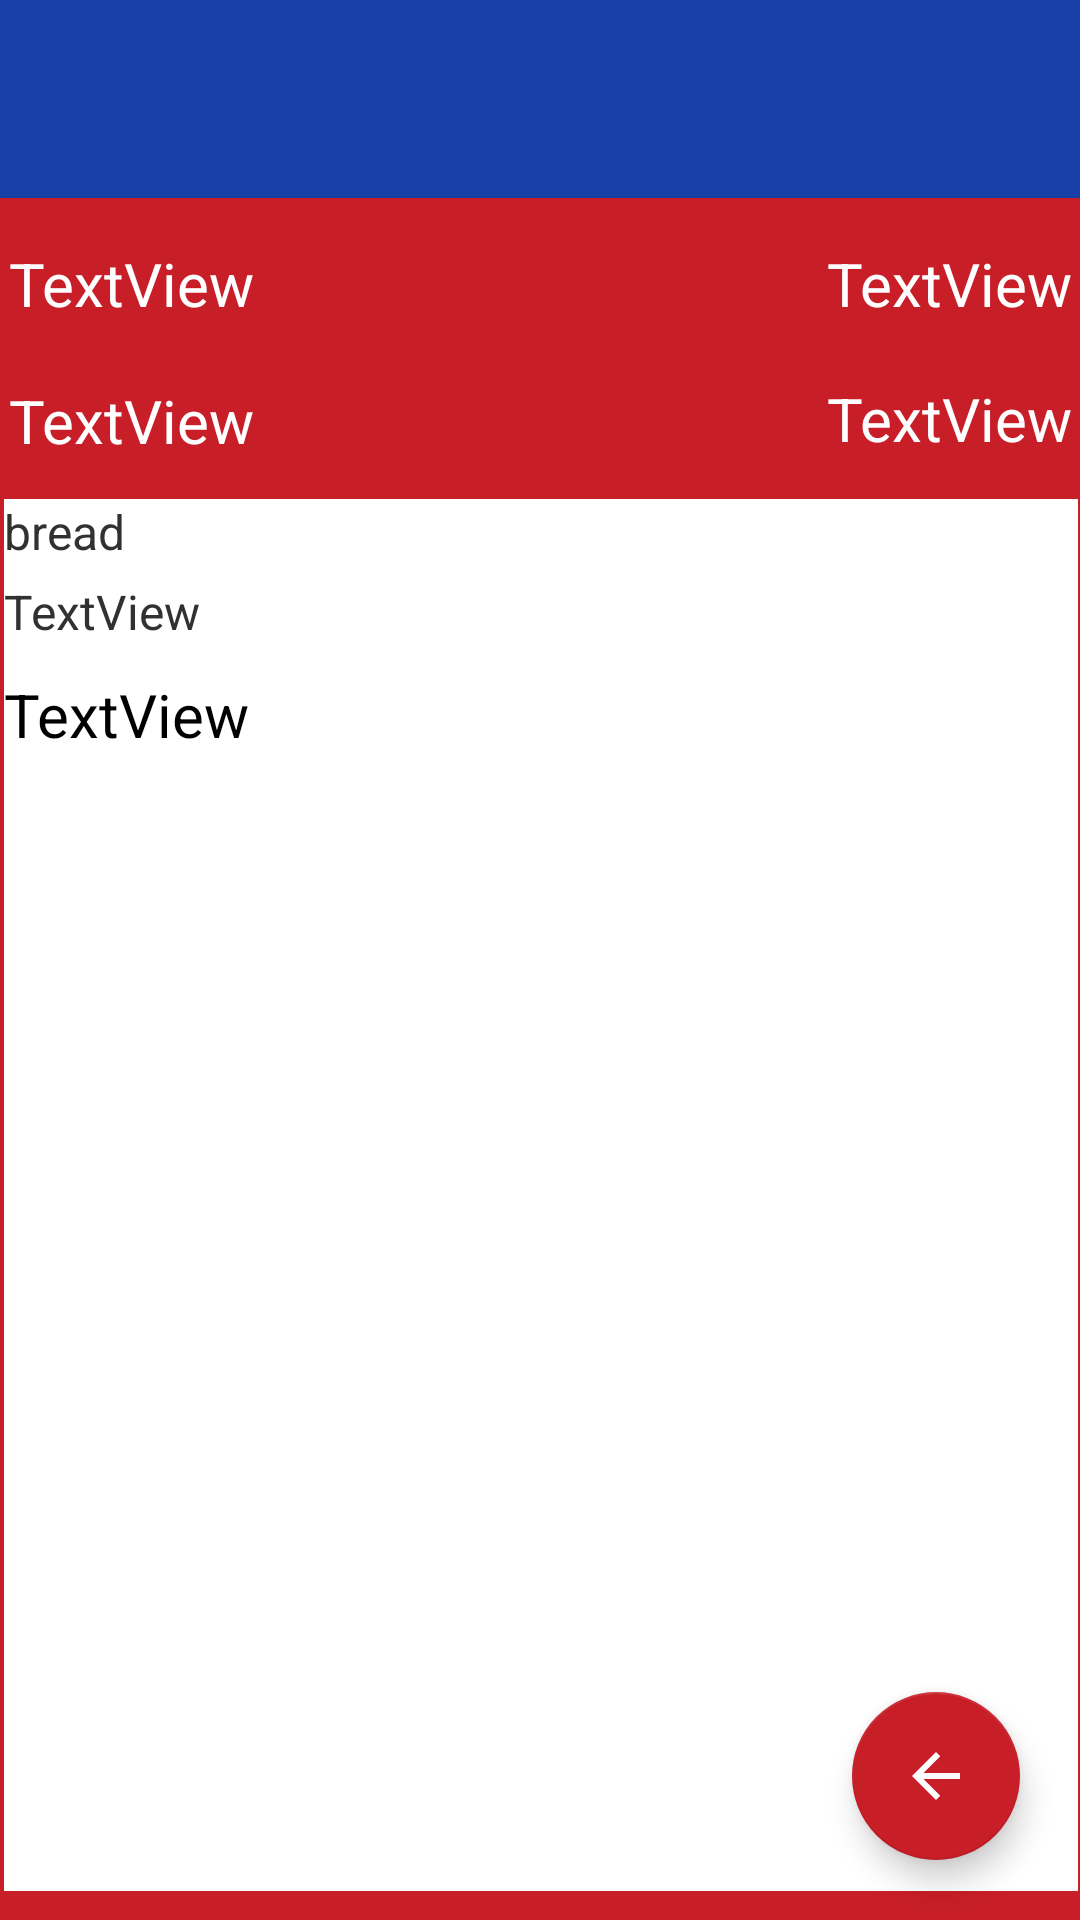

Where icons sit on this 1080x1920 app screen, as [x1, y1, x2, y2]:
arrow back: [852, 1692, 1020, 1860]
